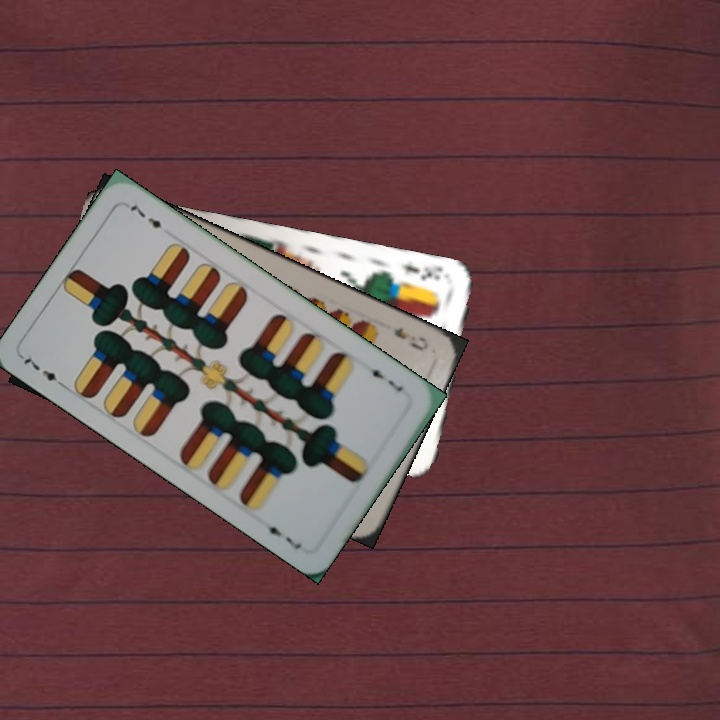E7: (17, 350, 69, 391), (364, 360, 406, 395)
E9: (389, 323, 432, 354)
EK: (398, 259, 445, 283)
